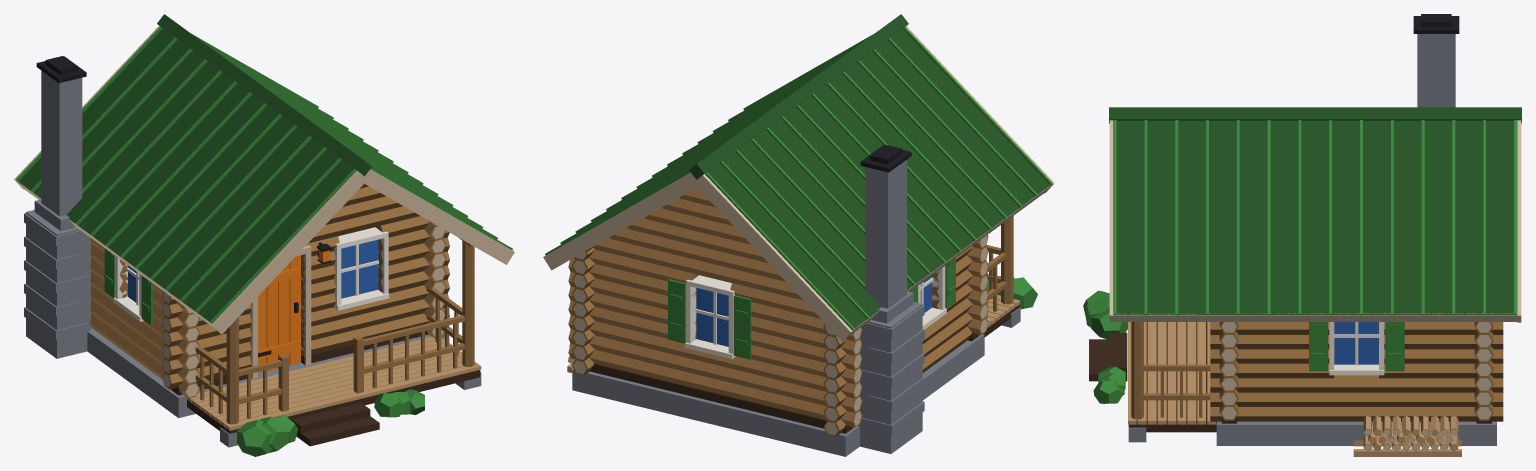
The model's file is rumah2.glb.
3 renders of one model, left to right at view 1: azimuth 30°, elevation 25°; view 2: azimuth 150°, elevation 25°; view 3: azimuth 270°, elevation 25°, orthographic. The views are drawn at different scales.
Parts seen in each view (by area): view 1: roof-forest-green-dark, walls-canvas-tan-dark, roof-forest-green, chimney-mid-grey, porch-canvas-tan-dark, porch-canvas-tan, roof-canvas-tan-light, plinth-mid-grey, door-flame-orange, porch-dark-wood, shrubs-forest-green, window_front-warm-white (+7 smaller); view 2: roof-forest-green-dark, walls-canvas-tan-dark, roof-forest-green, chimney-mid-grey, plinth-mid-grey, roof-canvas-tan-light, walls-canvas-tan-light, walls-dark-wood, window_back-warm-white, window_back-forest-green, porch-canvas-tan-dark, window_back-lake-blue (+4 smaller); view 3: roof-forest-green-dark, walls-canvas-tan-dark, roof-forest-green, porch-canvas-tan, roof-canvas-tan-light, plinth-mid-grey, firewood-canvas-tan, porch-dark-wood, chimney-mid-grey, porch-canvas-tan-dark, shrubs-forest-green, walls-canvas-tan-light (+5 smaller).
Part boxes in pixels (box(x1,y1,x2,y2)): roof-forest-green-dark: box(18, 14, 371, 322); walls-canvas-tan-dark: box(90, 184, 449, 398); roof-forest-green: box(16, 26, 512, 323); chimney-mid-grey: box(24, 70, 90, 358); porch-canvas-tan-dark: box(195, 237, 474, 424); porch-canvas-tan: box(187, 336, 481, 430); roof-canvas-tan-light: box(14, 26, 514, 334); plinth-mid-grey: box(87, 327, 481, 447); door-flame-orange: box(258, 255, 300, 373); porch-dark-wood: box(187, 370, 480, 446); shrubs-forest-green: box(237, 389, 424, 456); window_front-warm-white: box(334, 227, 389, 310); roof-forest-green-dark: box(689, 14, 1050, 328); walls-canvas-tan-dark: box(568, 187, 988, 436); roof-forest-green: box(545, 27, 1052, 330); chimney-mid-grey: box(858, 160, 924, 453); plinth-mid-grey: box(572, 307, 1020, 456); roof-canvas-tan-light: box(543, 26, 1054, 341); walls-canvas-tan-light: box(573, 235, 987, 435); walls-dark-wood: box(586, 247, 979, 433); window_back-warm-white: box(685, 275, 735, 359); window_back-forest-green: box(668, 279, 751, 359); porch-canvas-tan-dark: box(986, 216, 1013, 317); window_back-lake-blue: box(696, 288, 728, 346); roof-forest-green-dark: box(1109, 107, 1521, 315); walls-canvas-tan-dark: box(1210, 322, 1503, 421); roof-forest-green: box(1114, 120, 1516, 315); porch-canvas-tan: box(1128, 322, 1215, 424); roof-canvas-tan-light: box(1109, 120, 1521, 322); plinth-mid-grey: box(1128, 421, 1496, 445); firewood-canvas-tan: box(1353, 415, 1461, 456); porch-dark-wood: box(1089, 322, 1216, 432); chimney-mid-grey: box(1417, 34, 1455, 107); porch-canvas-tan-dark: box(1131, 322, 1210, 419); shrubs-forest-green: box(1083, 290, 1127, 403); walls-canvas-tan-light: box(1221, 322, 1491, 419).
Size of the model in its own units: 6.03 by 5.01 by 6.88.
